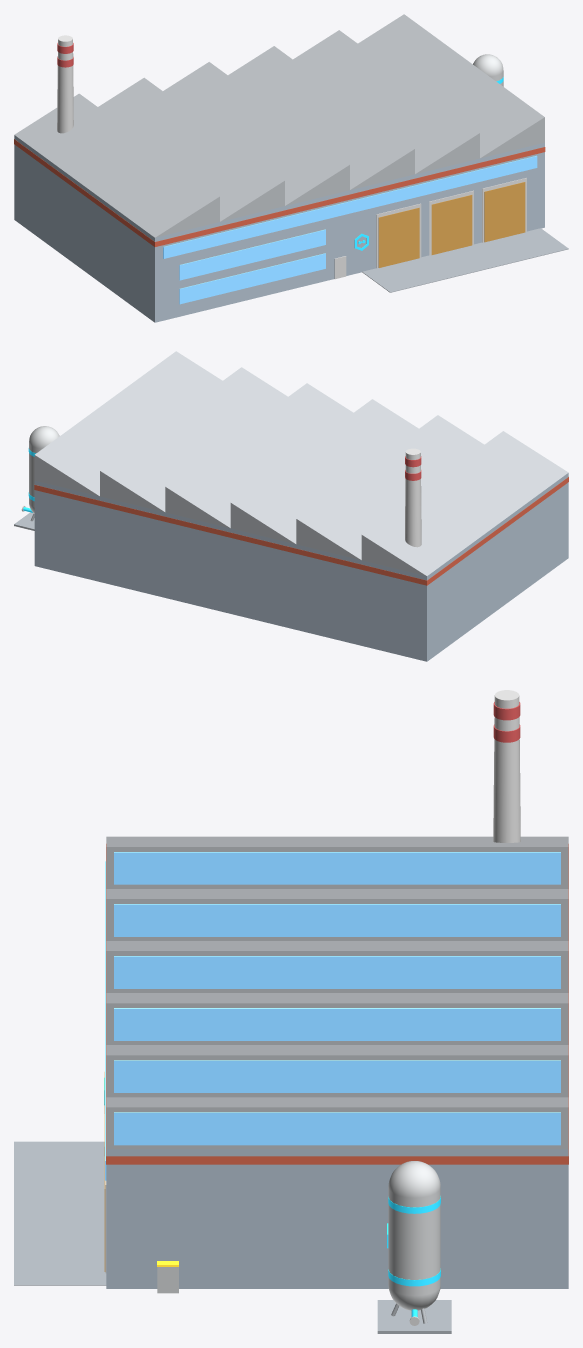
The model's file is H2demand-industry.glb.
3 views of the same model, one above another, from view 1: azimuth 30°, elevation 25°; view 2: azimuth 150°, elevation 25°; view 3: azimuth 270°, elevation 25° (orthographic). The views are drawn at different scales.
Parts seen in each view (by area): view 1: roof_tooth (×6), hall, loading_door (×3), apron, ribbon_window, window (×2), stripe, door_frame (×3), chimney, h2_tank; view 2: roof_tooth (×6), hall, stripe, chimney, h2_tank; view 3: skylight (×6), roof_tooth (×6), hall, apron, h2_tank, stripe, chimney, plinth.
Part boxes in pixels (left/top/right/bottom): roof_tooth (×6): left=14, top=14, right=544, bottom=237; hall: left=14, top=135, right=544, bottom=322; loading_door (×3): left=378, top=182, right=525, bottom=267; apron: left=362, top=228, right=568, bottom=292; ribbon_window: left=163, top=155, right=537, bottom=258; window (×2): left=179, top=229, right=325, bottom=304; stripe: left=14, top=139, right=545, bottom=246; door_frame (×3): left=376, top=178, right=526, bottom=268; chimney: left=57, top=35, right=73, bottom=133; h2_tank: left=473, top=54, right=503, bottom=86; roof_tooth (×6): left=34, top=351, right=568, bottom=575; hall: left=34, top=473, right=568, bottom=661; stripe: left=34, top=477, right=568, bottom=585; chimney: left=405, top=448, right=421, bottom=547; h2_tank: left=29, top=426, right=59, bottom=513; skylight (×6): left=114, top=852, right=560, bottom=1145; roof_tooth (×6): left=106, top=836, right=568, bottom=1149; hall: left=106, top=1149, right=568, bottom=1288; apron: left=14, top=1141, right=106, bottom=1285; h2_tank: left=388, top=1161, right=440, bottom=1310; stripe: left=106, top=844, right=568, bottom=1164; chimney: left=493, top=690, right=520, bottom=842; plinth: left=377, top=1300, right=451, bottom=1333.
Bounding box in the file's own units: 55.17 × 22 × 36.02.
